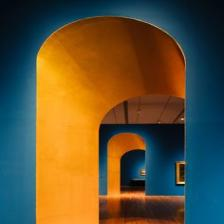orange: (36, 16, 186, 224), (108, 133, 146, 196)
